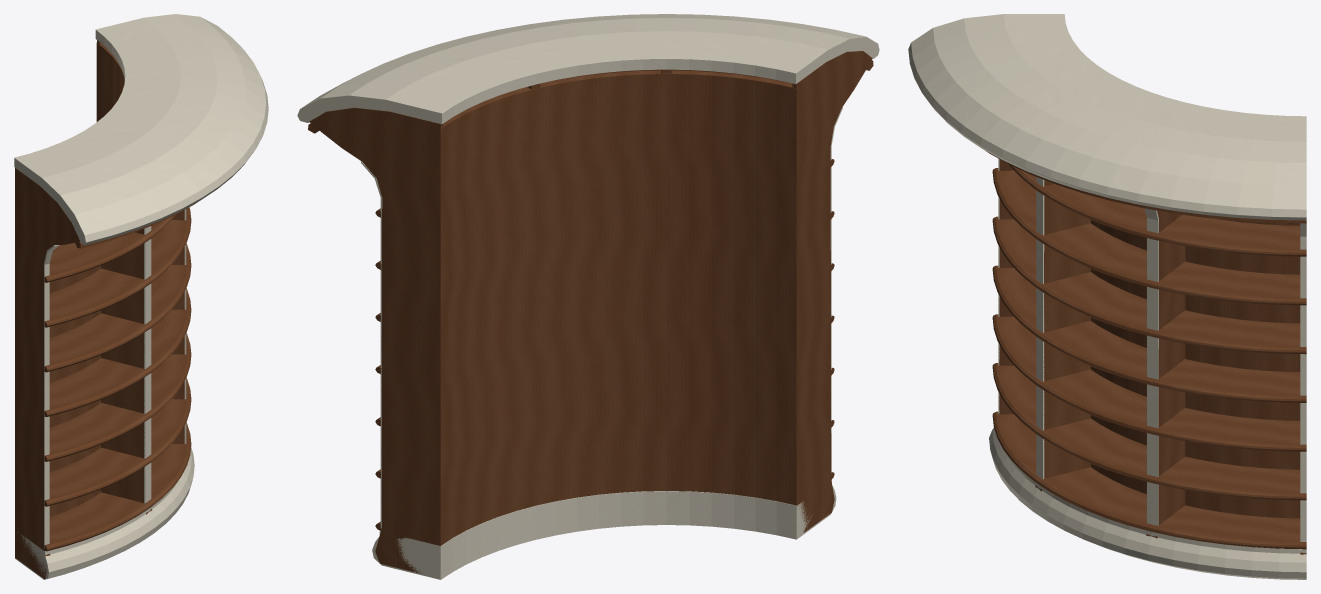
File: AST-LIB-STR-002.glb
3 renders of one model, left to right at view 1: azimuth 30°, elevation 25°; view 2: azimuth 150°, elevation 25°; view 3: azimuth 270°, elevation 25°, orthographic. The views are drawn at different scales.
Parts seen in each view (by area): view 1: ASTRAEA_library_warm_walnut, ASTRAEA_library_ivory_enamel; view 2: ASTRAEA_library_warm_walnut, ASTRAEA_library_ivory_enamel; view 3: ASTRAEA_library_warm_walnut, ASTRAEA_library_ivory_enamel.
Part boxes in pixels (<box>): ASTRAEA_library_warm_walnut: <box>15,40,197,578</box>; ASTRAEA_library_ivory_enamel: <box>14,14,268,579</box>; ASTRAEA_library_warm_walnut: <box>308,51,873,573</box>; ASTRAEA_library_ivory_enamel: <box>297,14,879,579</box>; ASTRAEA_library_warm_walnut: <box>986,151,1306,554</box>; ASTRAEA_library_ivory_enamel: <box>908,14,1306,579</box>.
Bounding box in the file's own units: 2.81 × 3.4 × 2.81.
2 materials, 2 textured.
